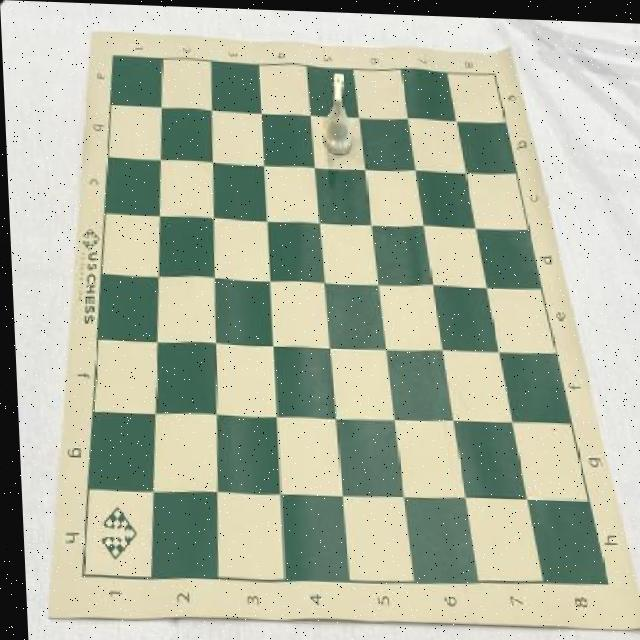white-king: (319, 69, 354, 155)
